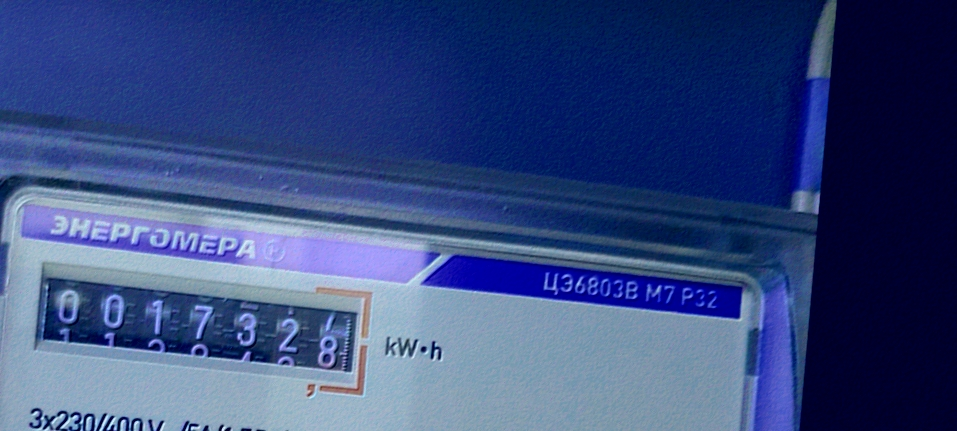0: (54, 286, 83, 328), (102, 292, 128, 332)
1: (146, 297, 168, 338)
2: (277, 316, 302, 355)
3: (235, 311, 260, 349)
7: (190, 303, 216, 343)
8: (317, 333, 339, 370)
screen: (22, 259, 384, 405)
